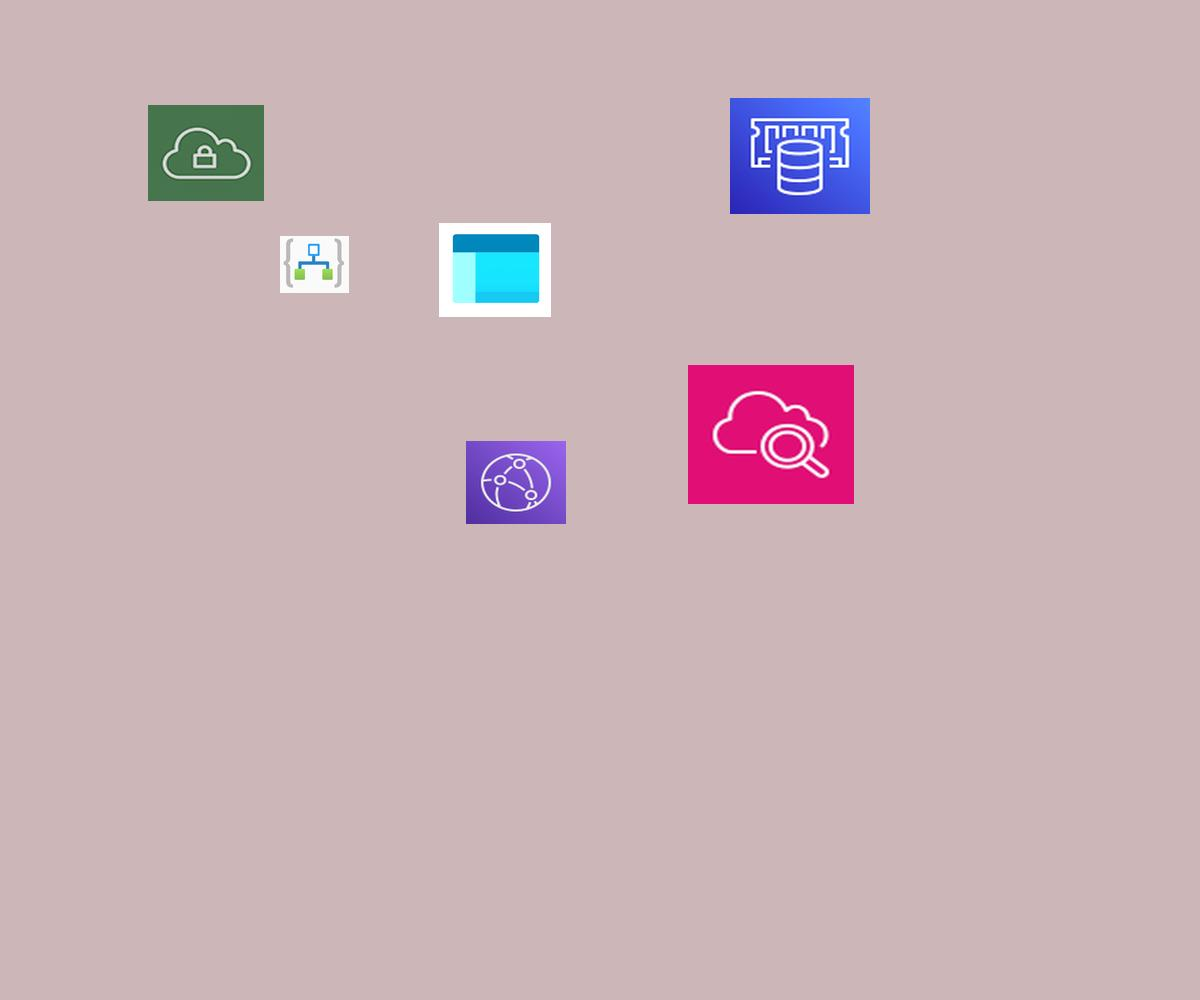AWS-CloudFront: (466, 441, 566, 524)
AWS-CloudWatch: (688, 365, 854, 504)
AWS-ElastiCache: (730, 98, 870, 214)
AWS-Private_vpc: (148, 105, 264, 201)
Azure_integration-204-Logic-Apps: (280, 236, 349, 293)
Azure_management-portal: (439, 223, 551, 317)
